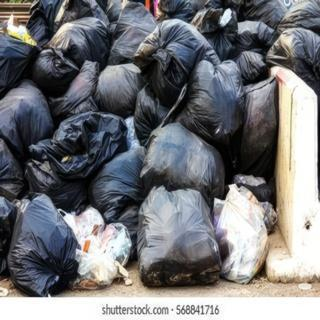Garbage: (135, 186, 220, 285), (23, 111, 124, 190), (6, 194, 77, 296), (132, 19, 216, 104), (139, 122, 225, 195), (65, 209, 131, 289), (217, 184, 268, 284), (186, 59, 246, 144), (264, 26, 319, 83), (92, 63, 141, 113), (33, 46, 75, 97)
